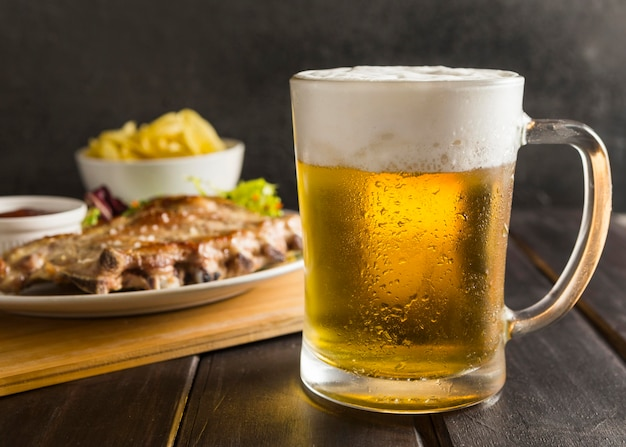alcohol: (287, 63, 610, 418)
